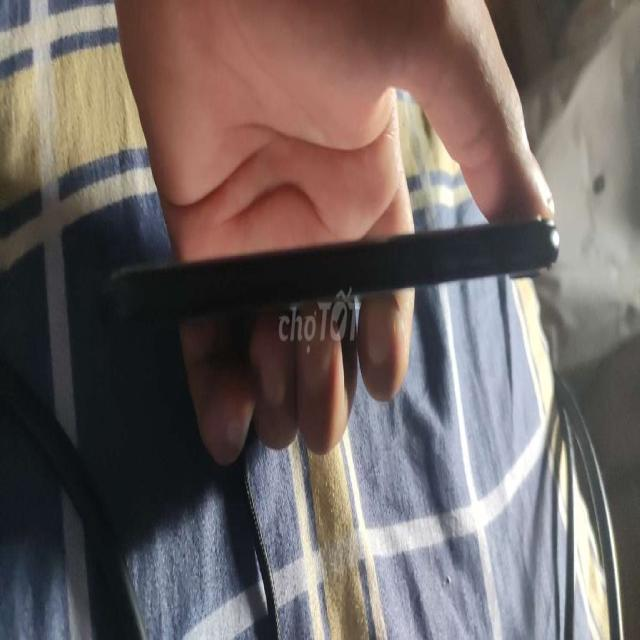gen_7_8: (102, 221, 559, 321)
